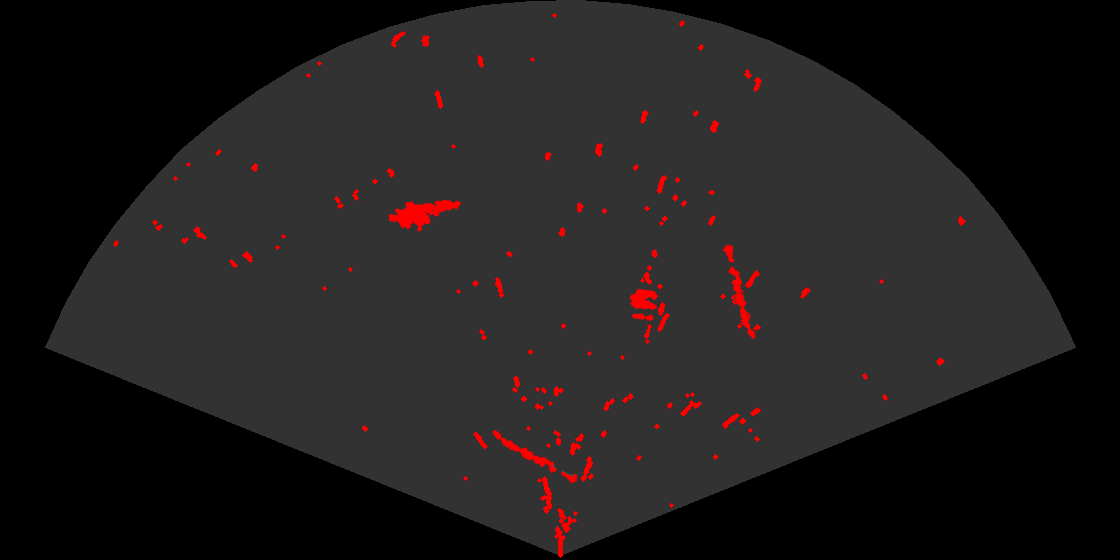ball: (628, 287, 660, 322)
chain: (491, 429, 580, 485), (721, 242, 757, 341)
frogman: (389, 198, 463, 233)
